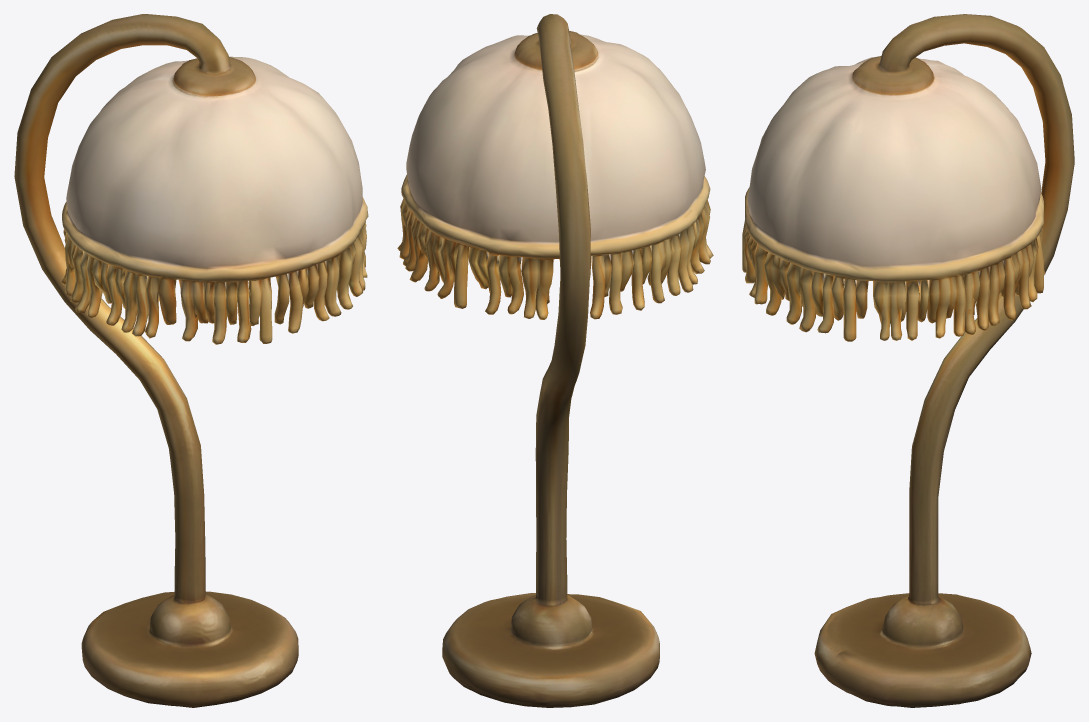
Rendered from lambader.glb.
3 renders of one model, left to right at view 1: azimuth 30°, elevation 25°; view 2: azimuth 150°, elevation 25°; view 3: azimuth 270°, elevation 25°, orthographic.
Parts seen in each view (by area): view 1: tripo_node_c5b65637-8545-455f-bcb5-a1a692498915; view 2: tripo_node_c5b65637-8545-455f-bcb5-a1a692498915; view 3: tripo_node_c5b65637-8545-455f-bcb5-a1a692498915.
Boxes of the visible parts, x1=… form: tripo_node_c5b65637-8545-455f-bcb5-a1a692498915: x1=14, y1=14, x2=368, y2=707; tripo_node_c5b65637-8545-455f-bcb5-a1a692498915: x1=397, y1=14, x2=713, y2=707; tripo_node_c5b65637-8545-455f-bcb5-a1a692498915: x1=742, y1=14, x2=1074, y2=707.
Bounding box in the file's own units: 0.4306 × 0.9779 × 0.4574.
Materials: 1 (1 with a texture image).
